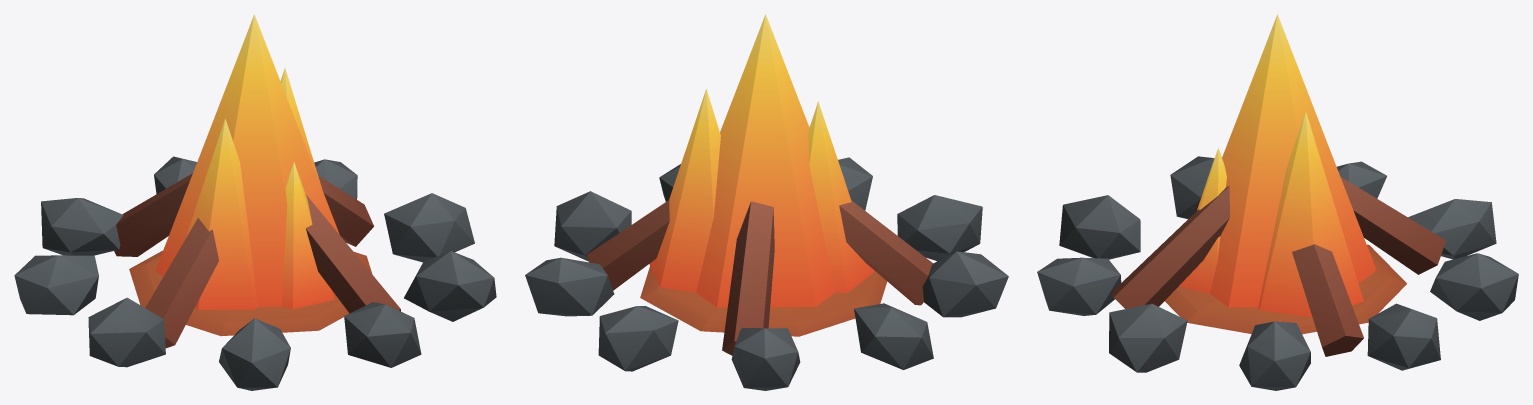
The model's file is campfire.glb.
3 renders of one model, left to right at view 1: azimuth 30°, elevation 25°; view 2: azimuth 150°, elevation 25°; view 3: azimuth 270°, elevation 25°, orthographic.
Visible parts, largest first — view 1: campfire; view 2: campfire; view 3: campfire.
Boxes of the visible parts, x1=… form: campfire: x1=14, y1=14, x2=496, y2=390; campfire: x1=525, y1=14, x2=1008, y2=390; campfire: x1=1037, y1=14, x2=1518, y2=390.
Bounding box in the file's own units: 2.02 × 1.37 × 2.04.
Materials: 3 (3 with a texture image).
